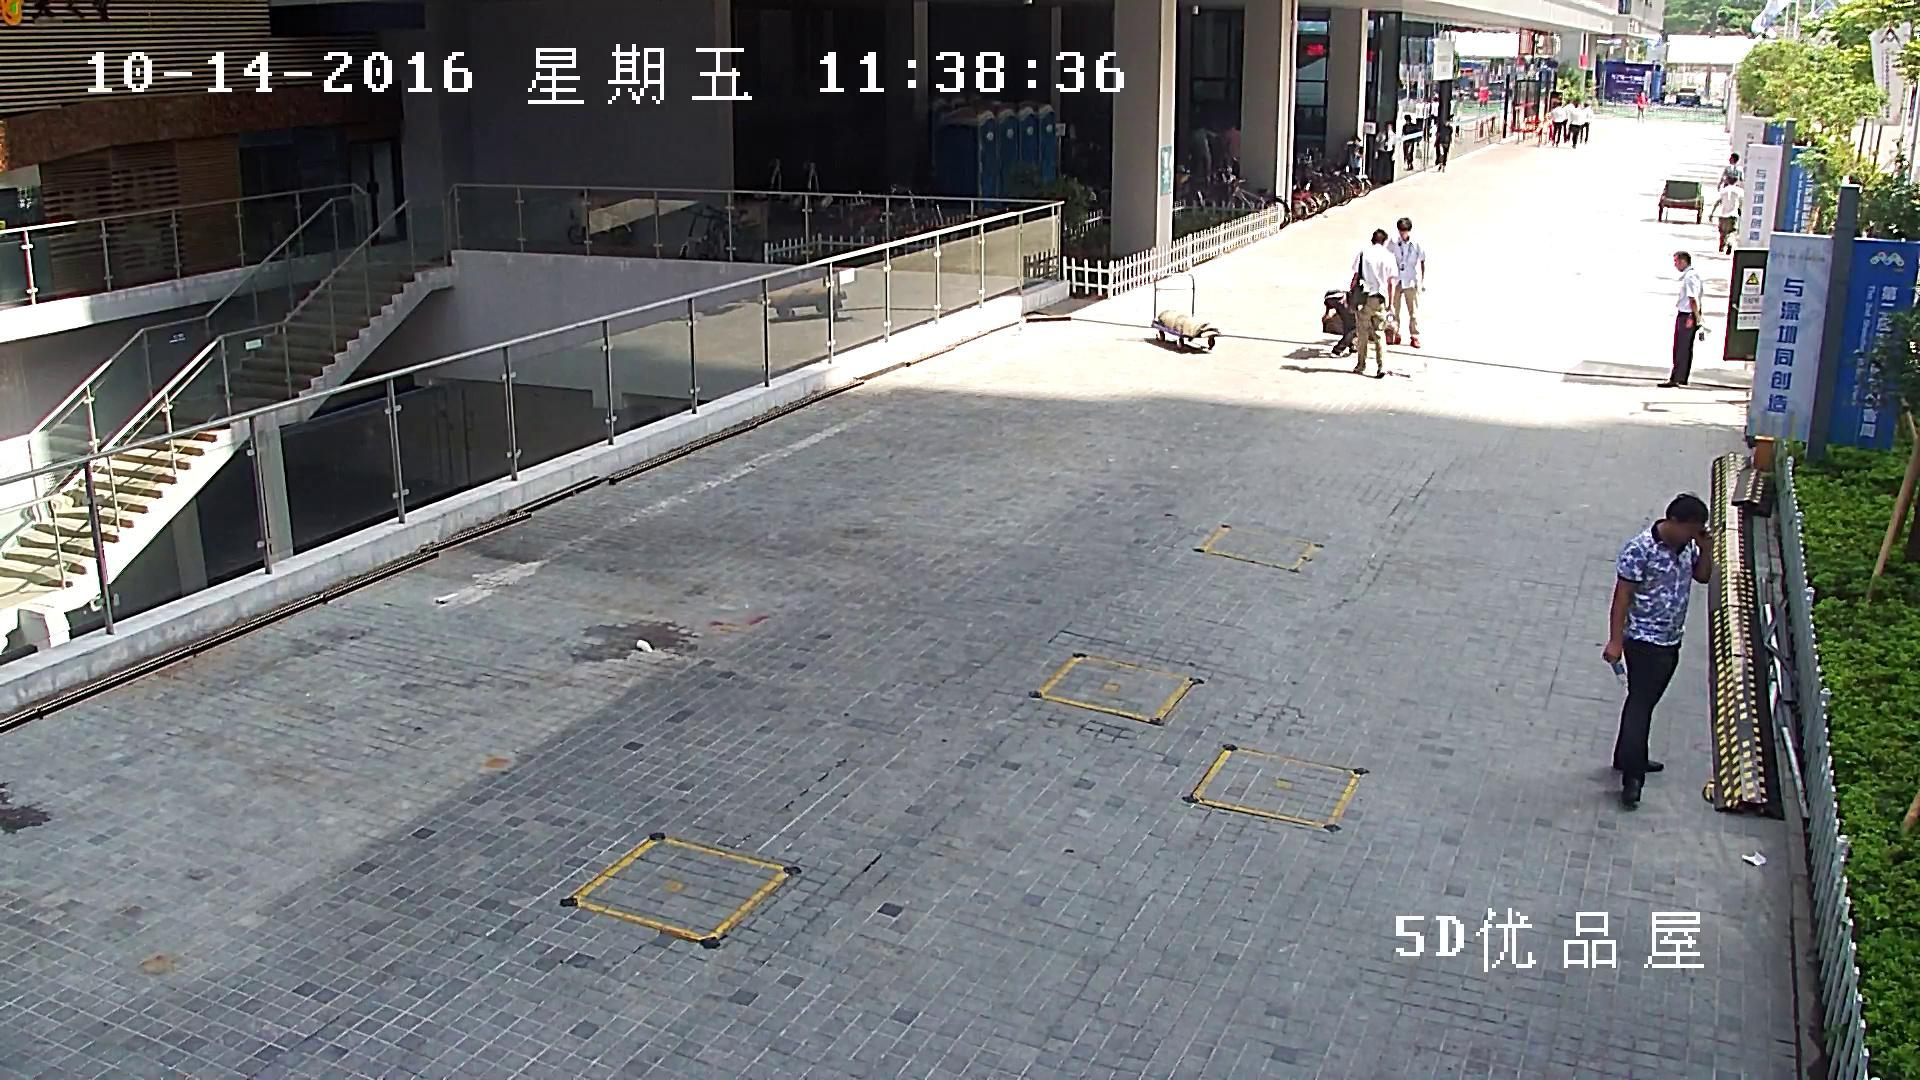person: (1602, 492, 1714, 806), (1346, 228, 1399, 378), (1657, 251, 1703, 386), (1386, 217, 1425, 348), (1321, 291, 1384, 357), (1709, 173, 1743, 254), (1189, 122, 1216, 180), (1375, 120, 1396, 184), (1718, 152, 1743, 192), (1218, 123, 1240, 166), (1402, 115, 1416, 170), (1435, 123, 1451, 170), (1551, 101, 1566, 147), (1568, 102, 1583, 148), (1562, 101, 1574, 142), (1581, 102, 1591, 143), (1637, 92, 1647, 120)
